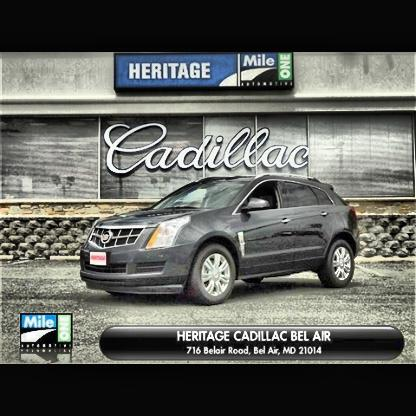Cadillac SRX SUV 2012: (80, 176, 362, 308)
